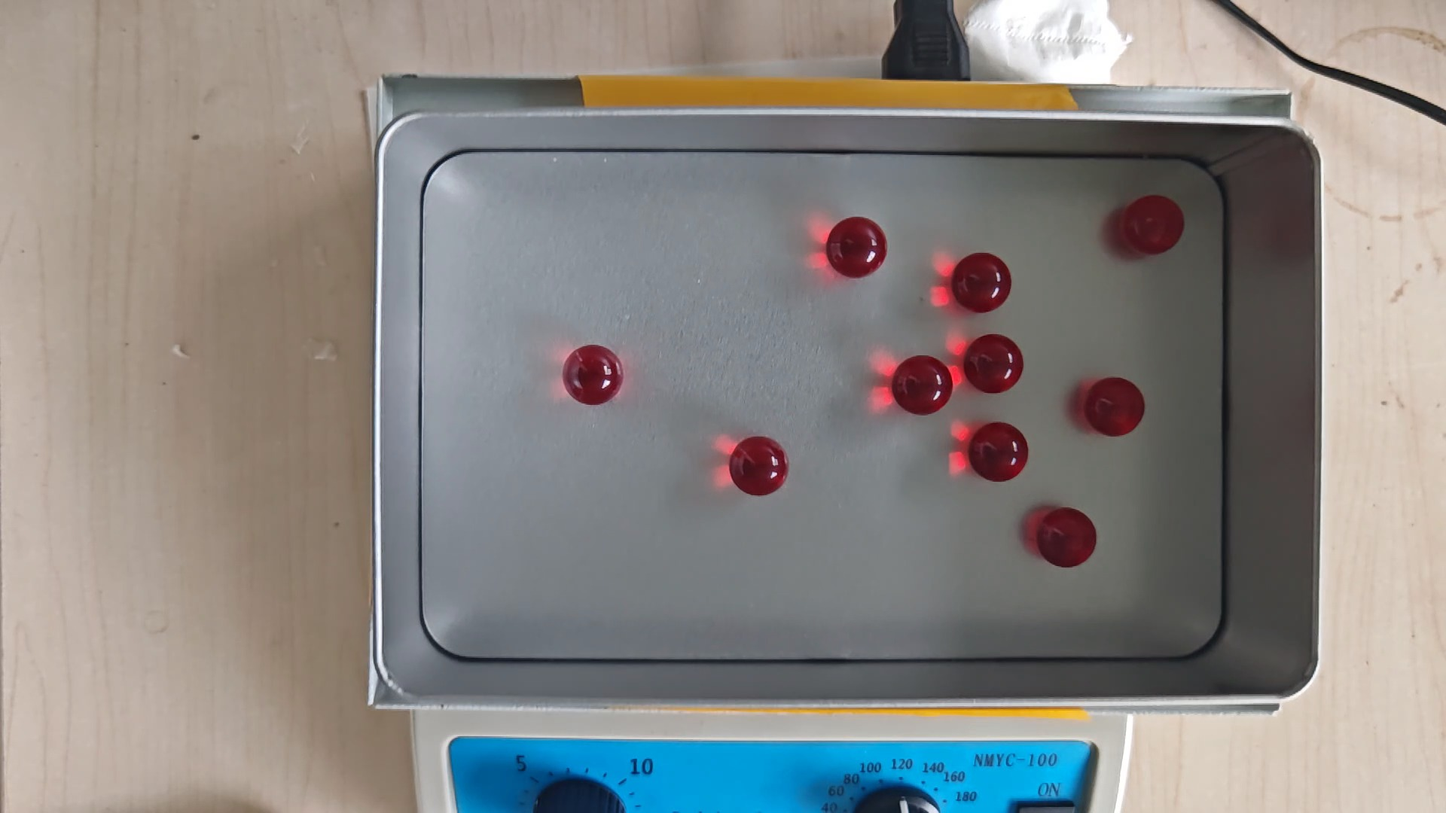ball: (826, 216, 887, 279), (892, 354, 953, 416), (1085, 376, 1146, 437), (1123, 194, 1184, 255), (563, 344, 623, 406), (969, 420, 1029, 482), (1037, 506, 1097, 568), (964, 333, 1024, 394), (952, 252, 1012, 313), (730, 435, 789, 497)
container: (413, 150, 1228, 661)
